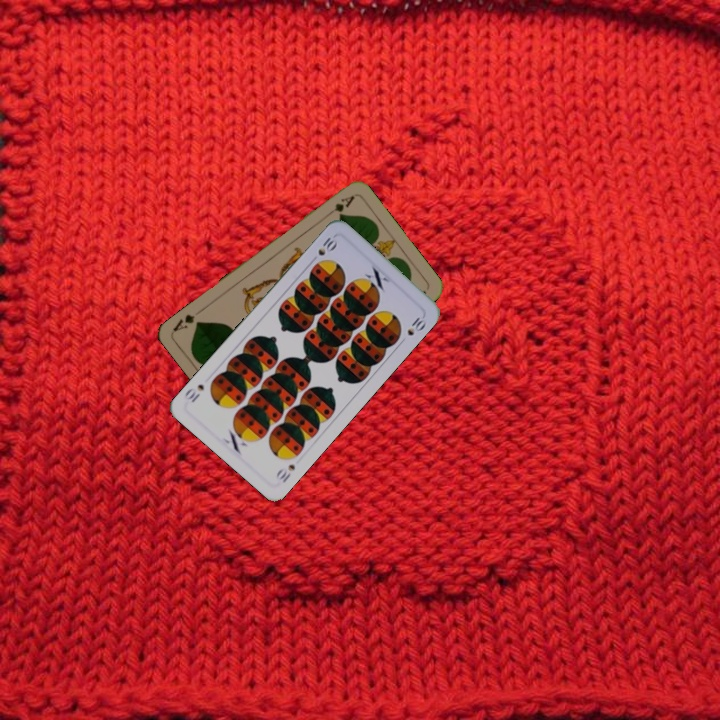GA: (330, 191, 357, 215)
S10: (272, 460, 298, 486), (314, 233, 340, 258)
